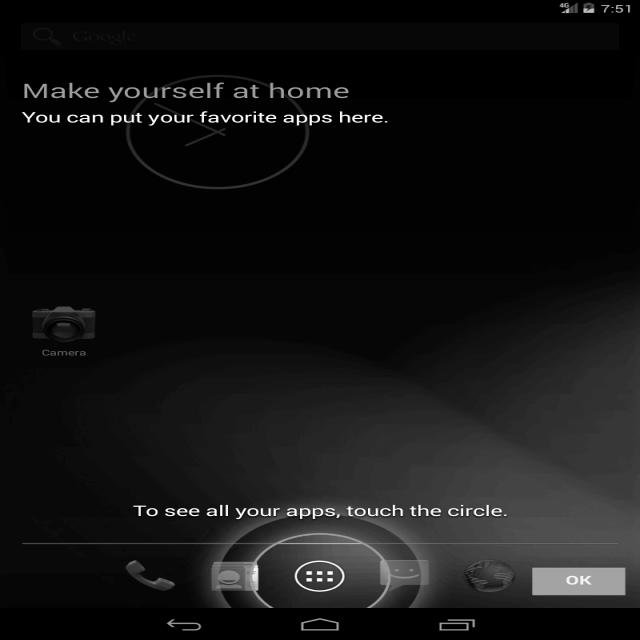Button: (530, 566, 628, 596)
ImageView: (117, 544, 175, 594), (202, 554, 272, 594), (458, 551, 512, 597), (374, 552, 428, 590), (294, 555, 344, 595)
TextView: (131, 498, 522, 522), (11, 110, 399, 126), (14, 82, 357, 100)
